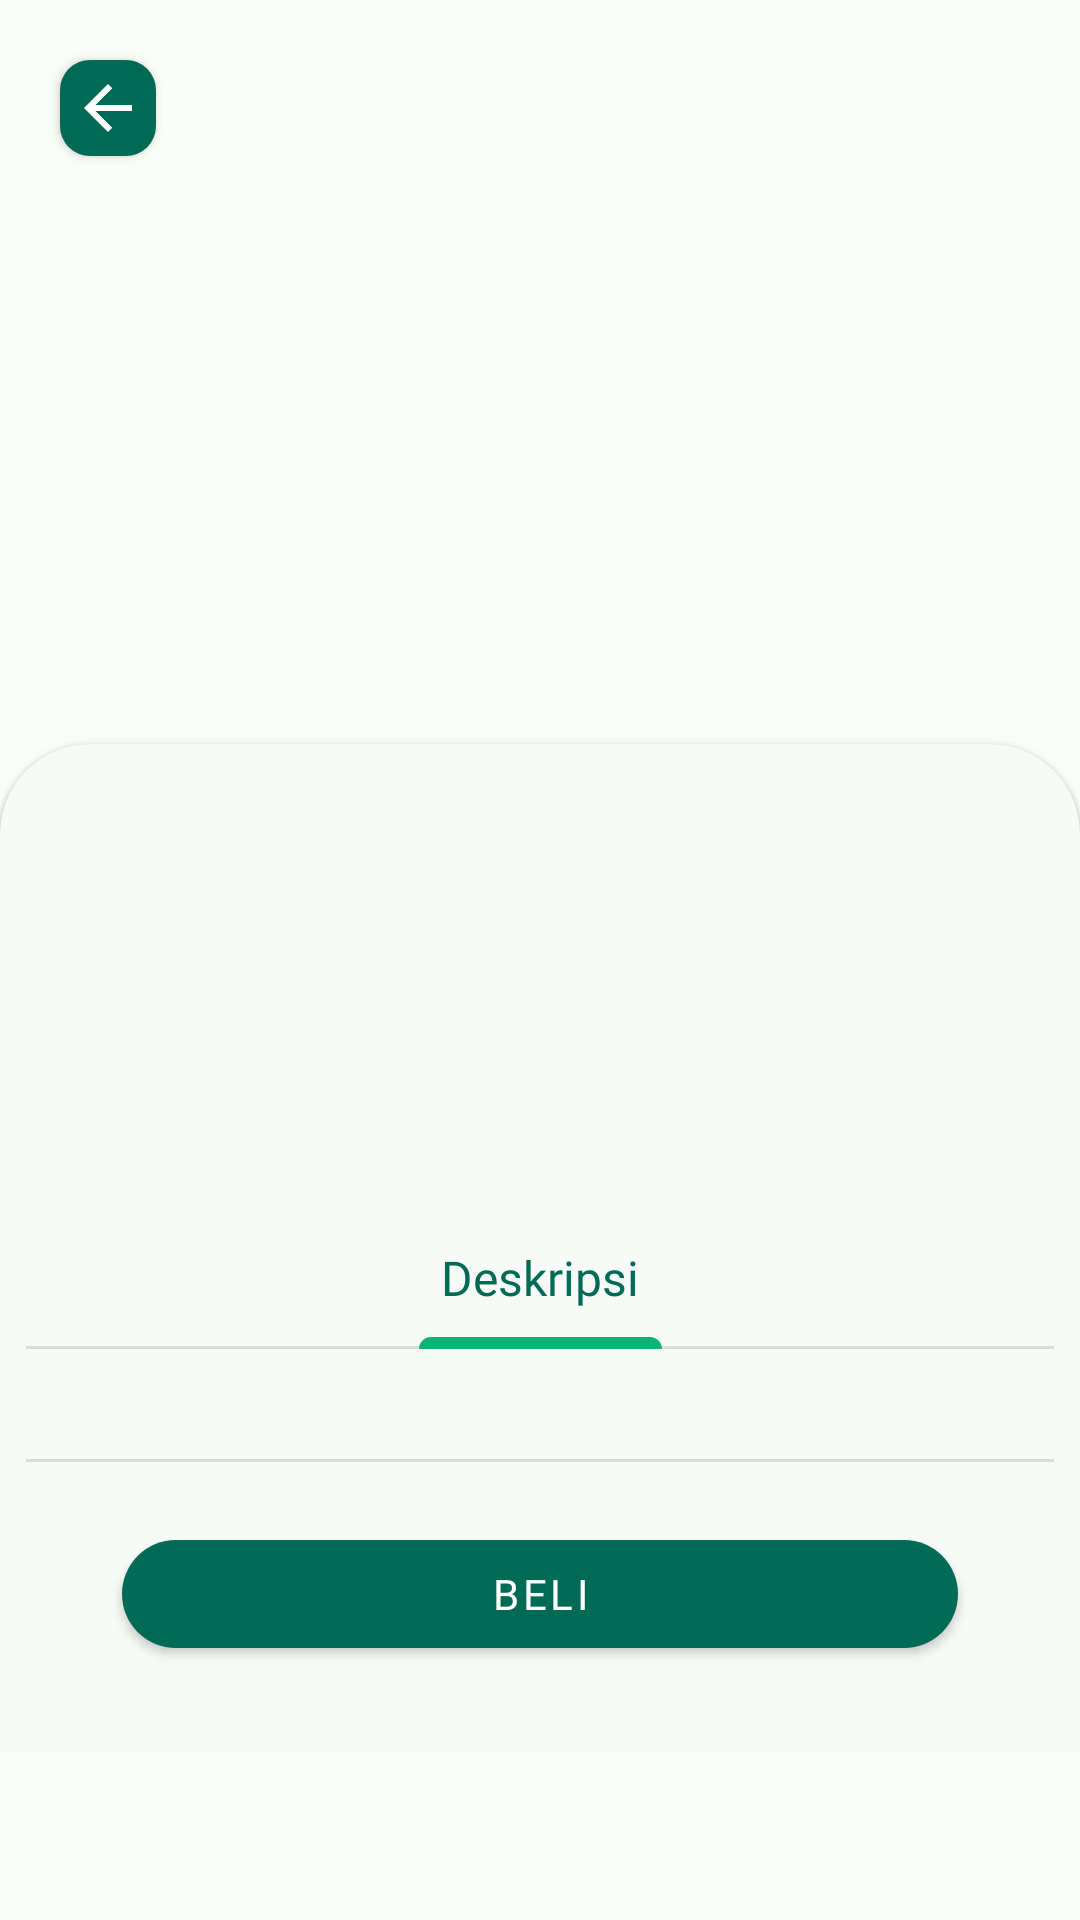

Screen size 1080w x 1920h. Icon name, then its center in pixels as (x=x, y=y):
back: (x=108, y=108)
